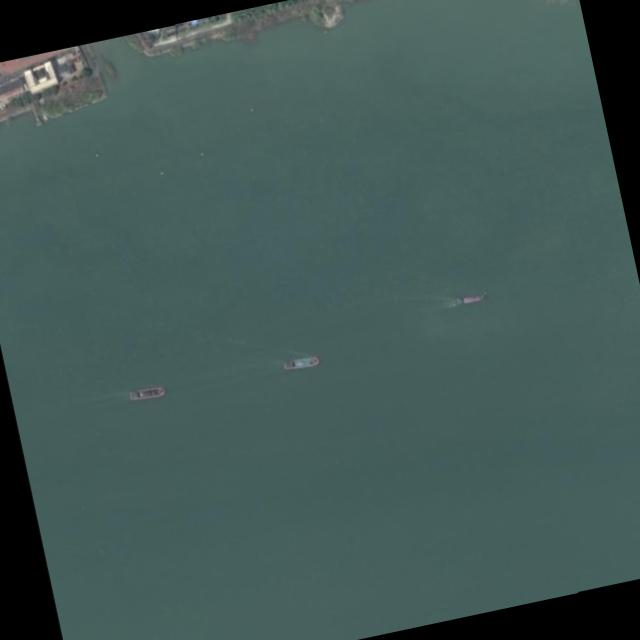ship: (128, 387, 166, 401), (282, 357, 320, 369), (454, 293, 484, 305)
